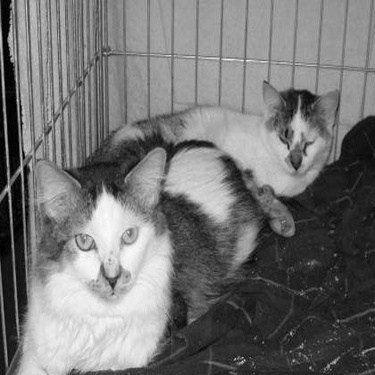cat: (11, 142, 311, 367), (76, 77, 343, 191)
